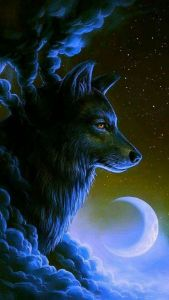wolf: (12, 55, 150, 259)
